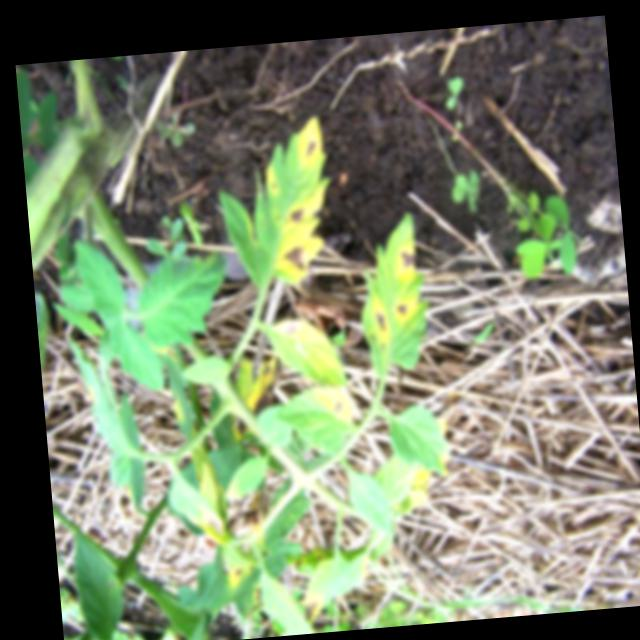Early_blight: (229, 360, 288, 435), (295, 115, 323, 170), (271, 243, 315, 277), (268, 318, 315, 343), (325, 385, 353, 424), (369, 295, 389, 346), (199, 507, 228, 540), (389, 298, 419, 328), (396, 245, 417, 283), (286, 205, 310, 229), (301, 598, 320, 624)
